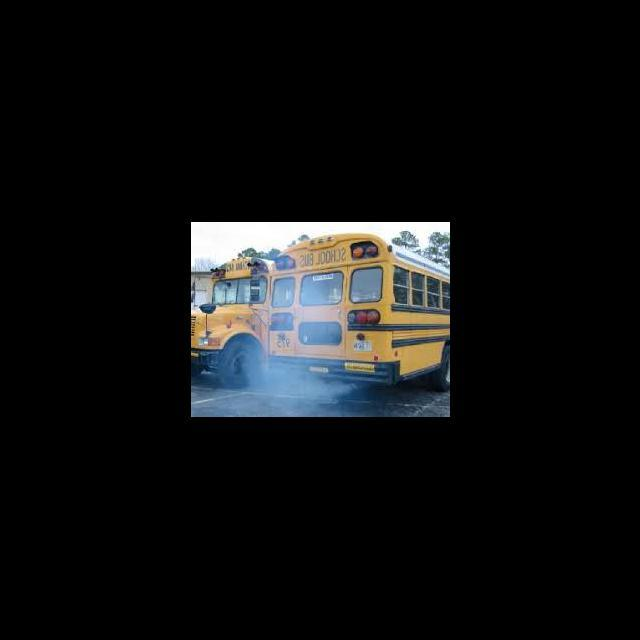Smoke: (211, 346, 337, 417)
